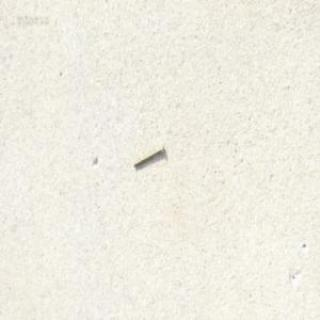Bolttrack_idkeyframe: (132, 143, 163, 167)
